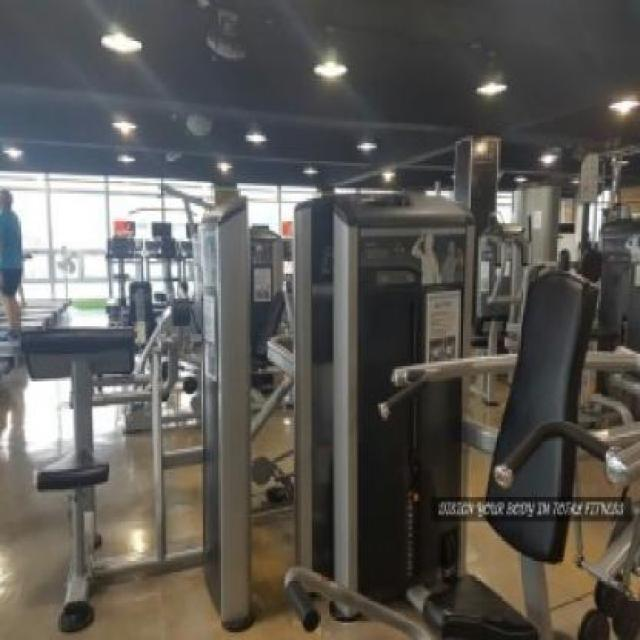Chest Press machine: (284, 269, 640, 638)
arm curl machine: (19, 292, 252, 632)
